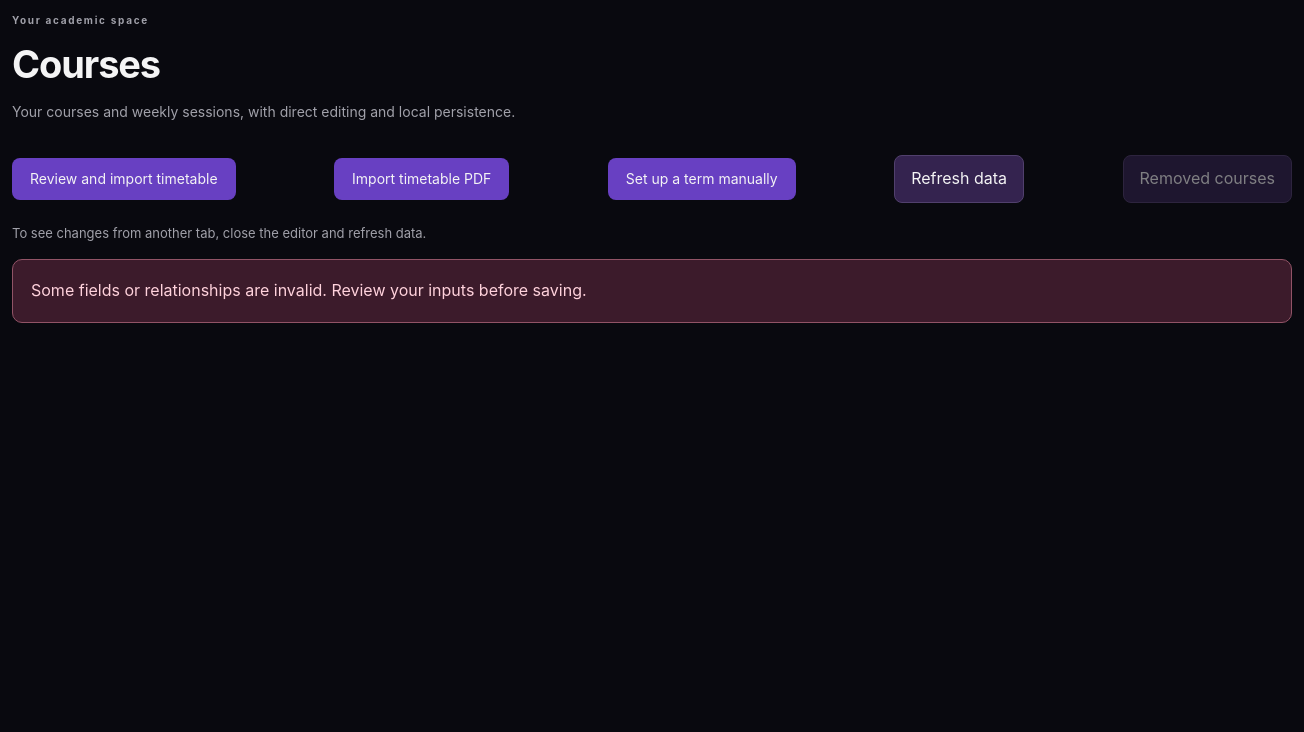
Test: retains actionable recovery for a invalid case-variant term link
Expected: the message "Some fields or relationships are invalid. Review your inputs before saving." is shown, [12,259,1292,323]
Click the button "Refresh data".
click(959, 179)  # box [894,155,1024,203]
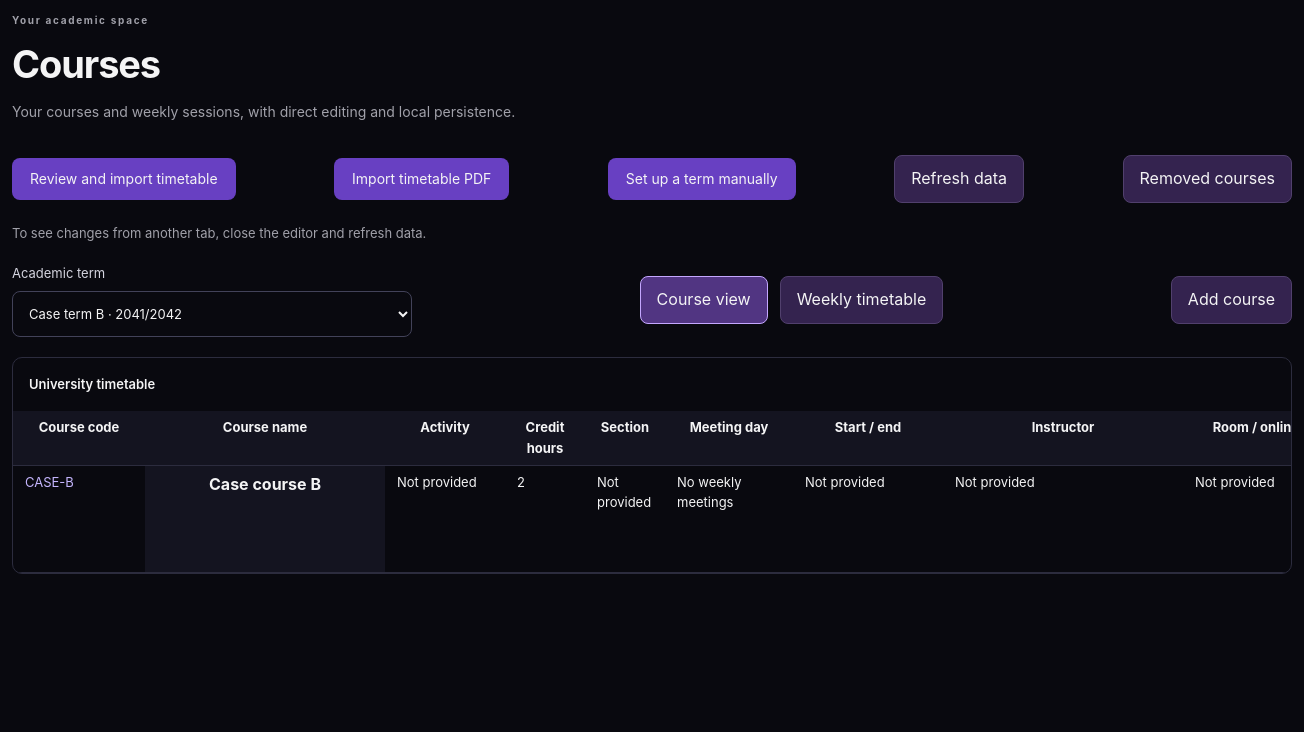
Result: the dropdown labelled "Academic term" shows "Case term B · 2041/2042" at [12,291,412,337]
Result: the message "Some fields or relationships are invalid. Review your inputs before saving." is gone
